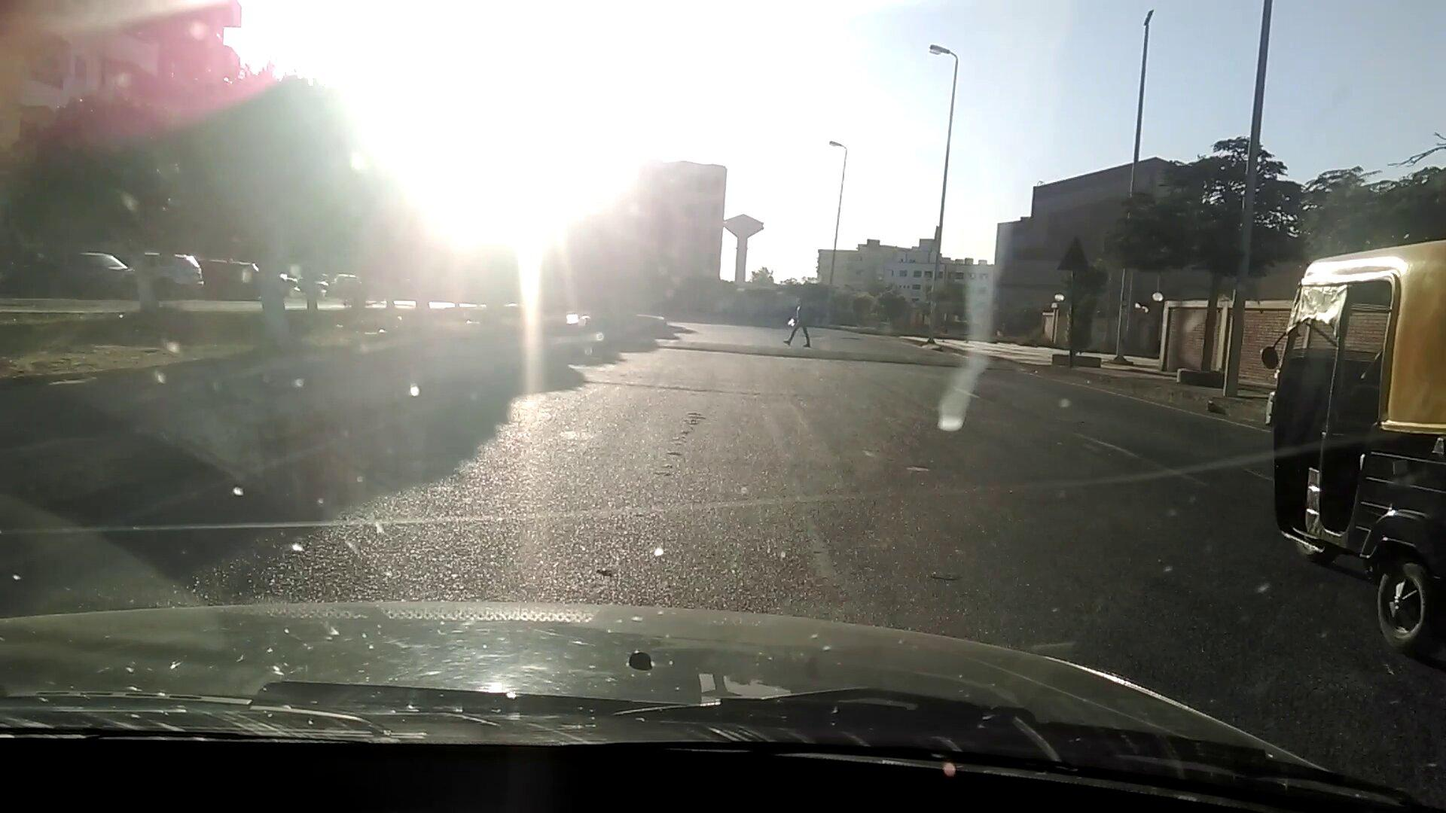Bump: (653, 329, 1028, 380)
